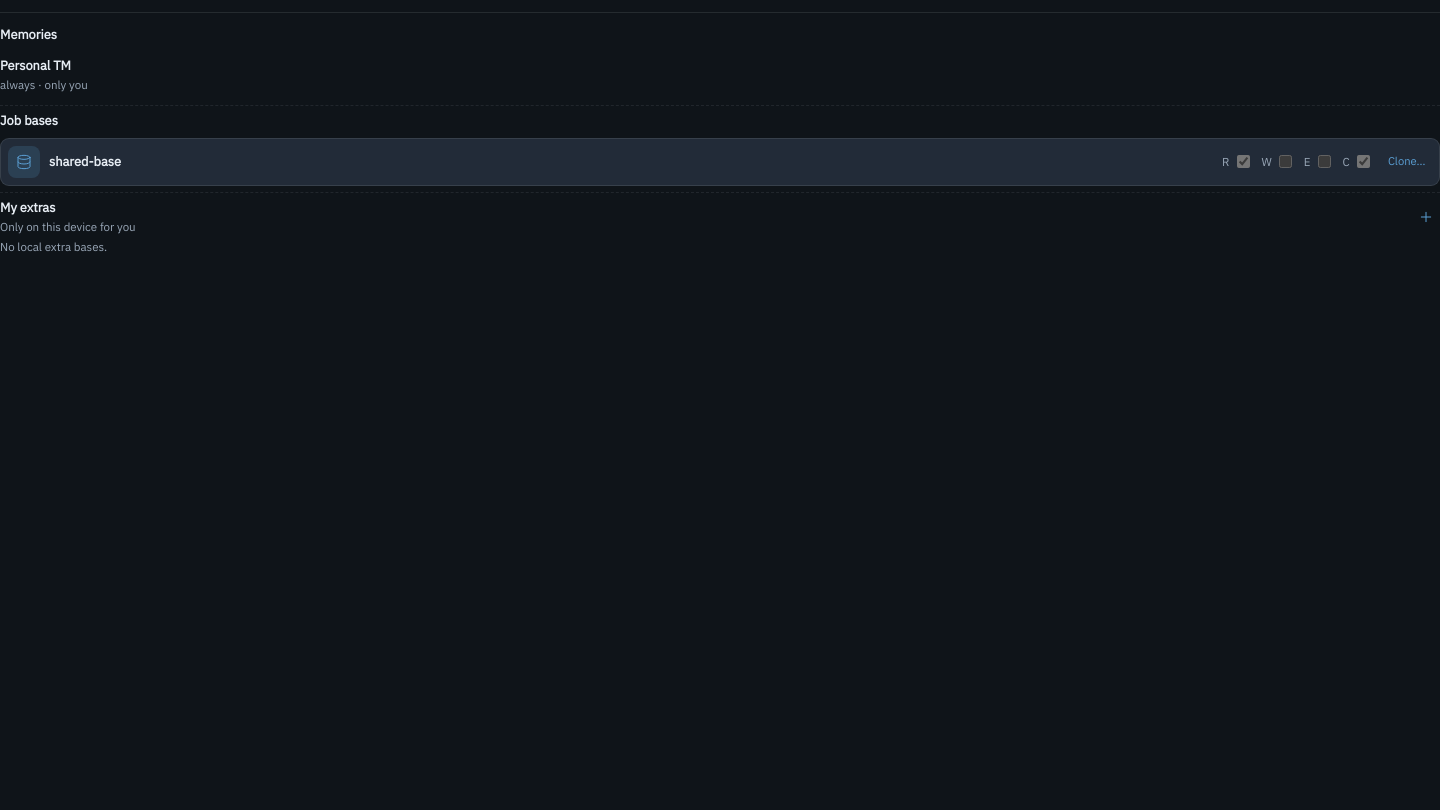
it: JobMemoriesPanel › clones into an owned base and excludes shared-only targets
Click the button with test id "job-tm-clone" at (1407, 162), box [1382, 148, 1432, 176]
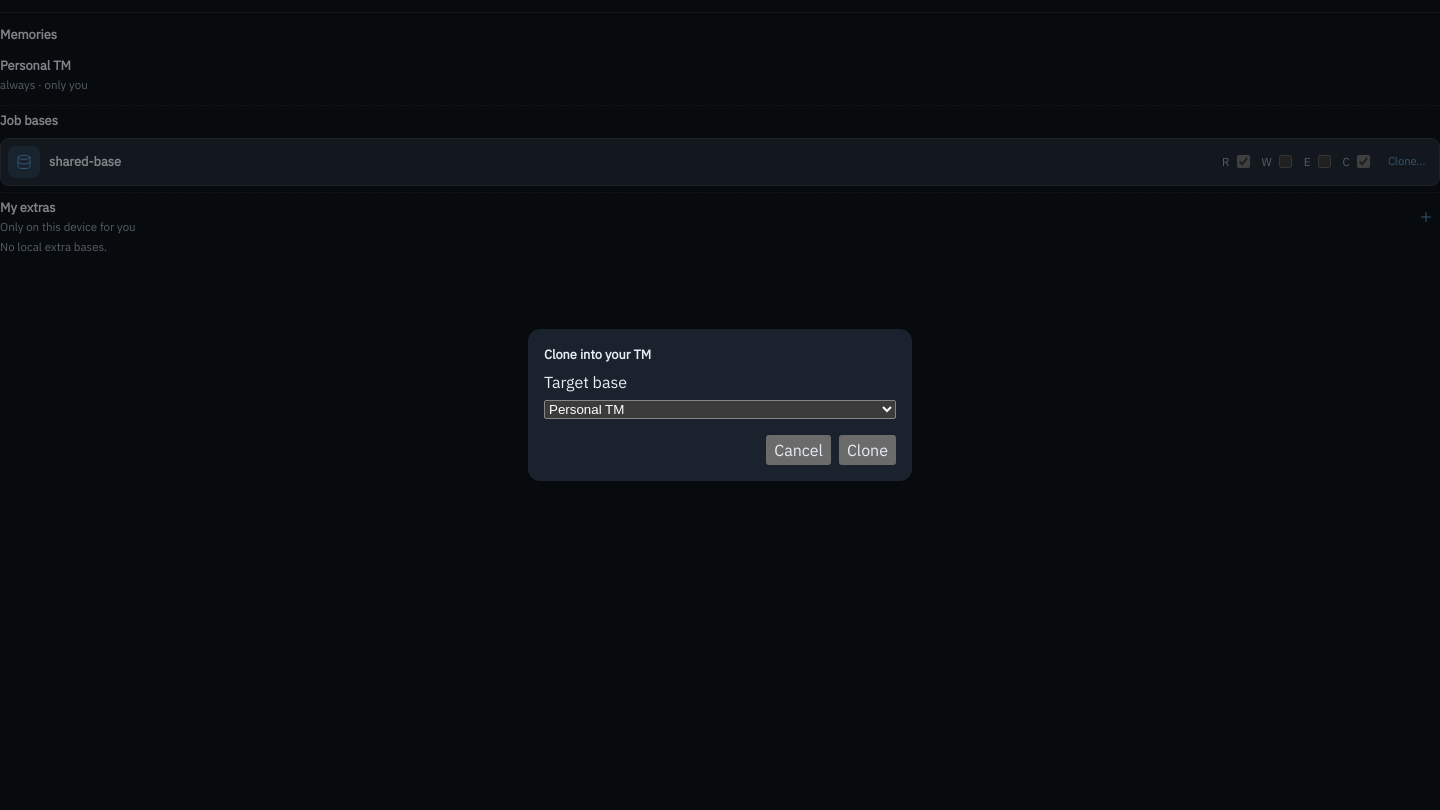
Click the button with test id "job-tm-clone-confirm" at (867, 450), box [839, 435, 896, 465]
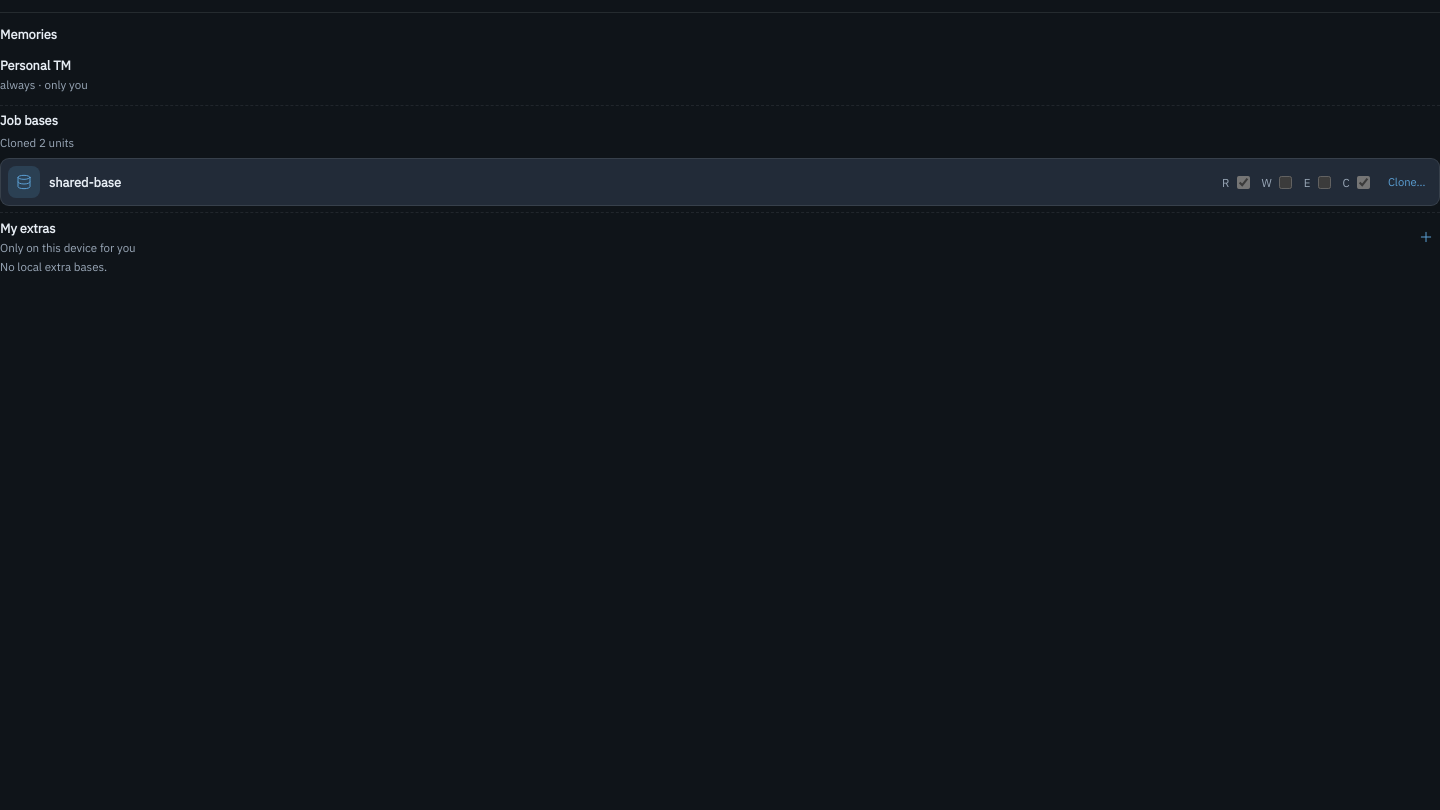
Expected: the text "Cloned 2 units" is shown, [0, 135, 74, 150]
